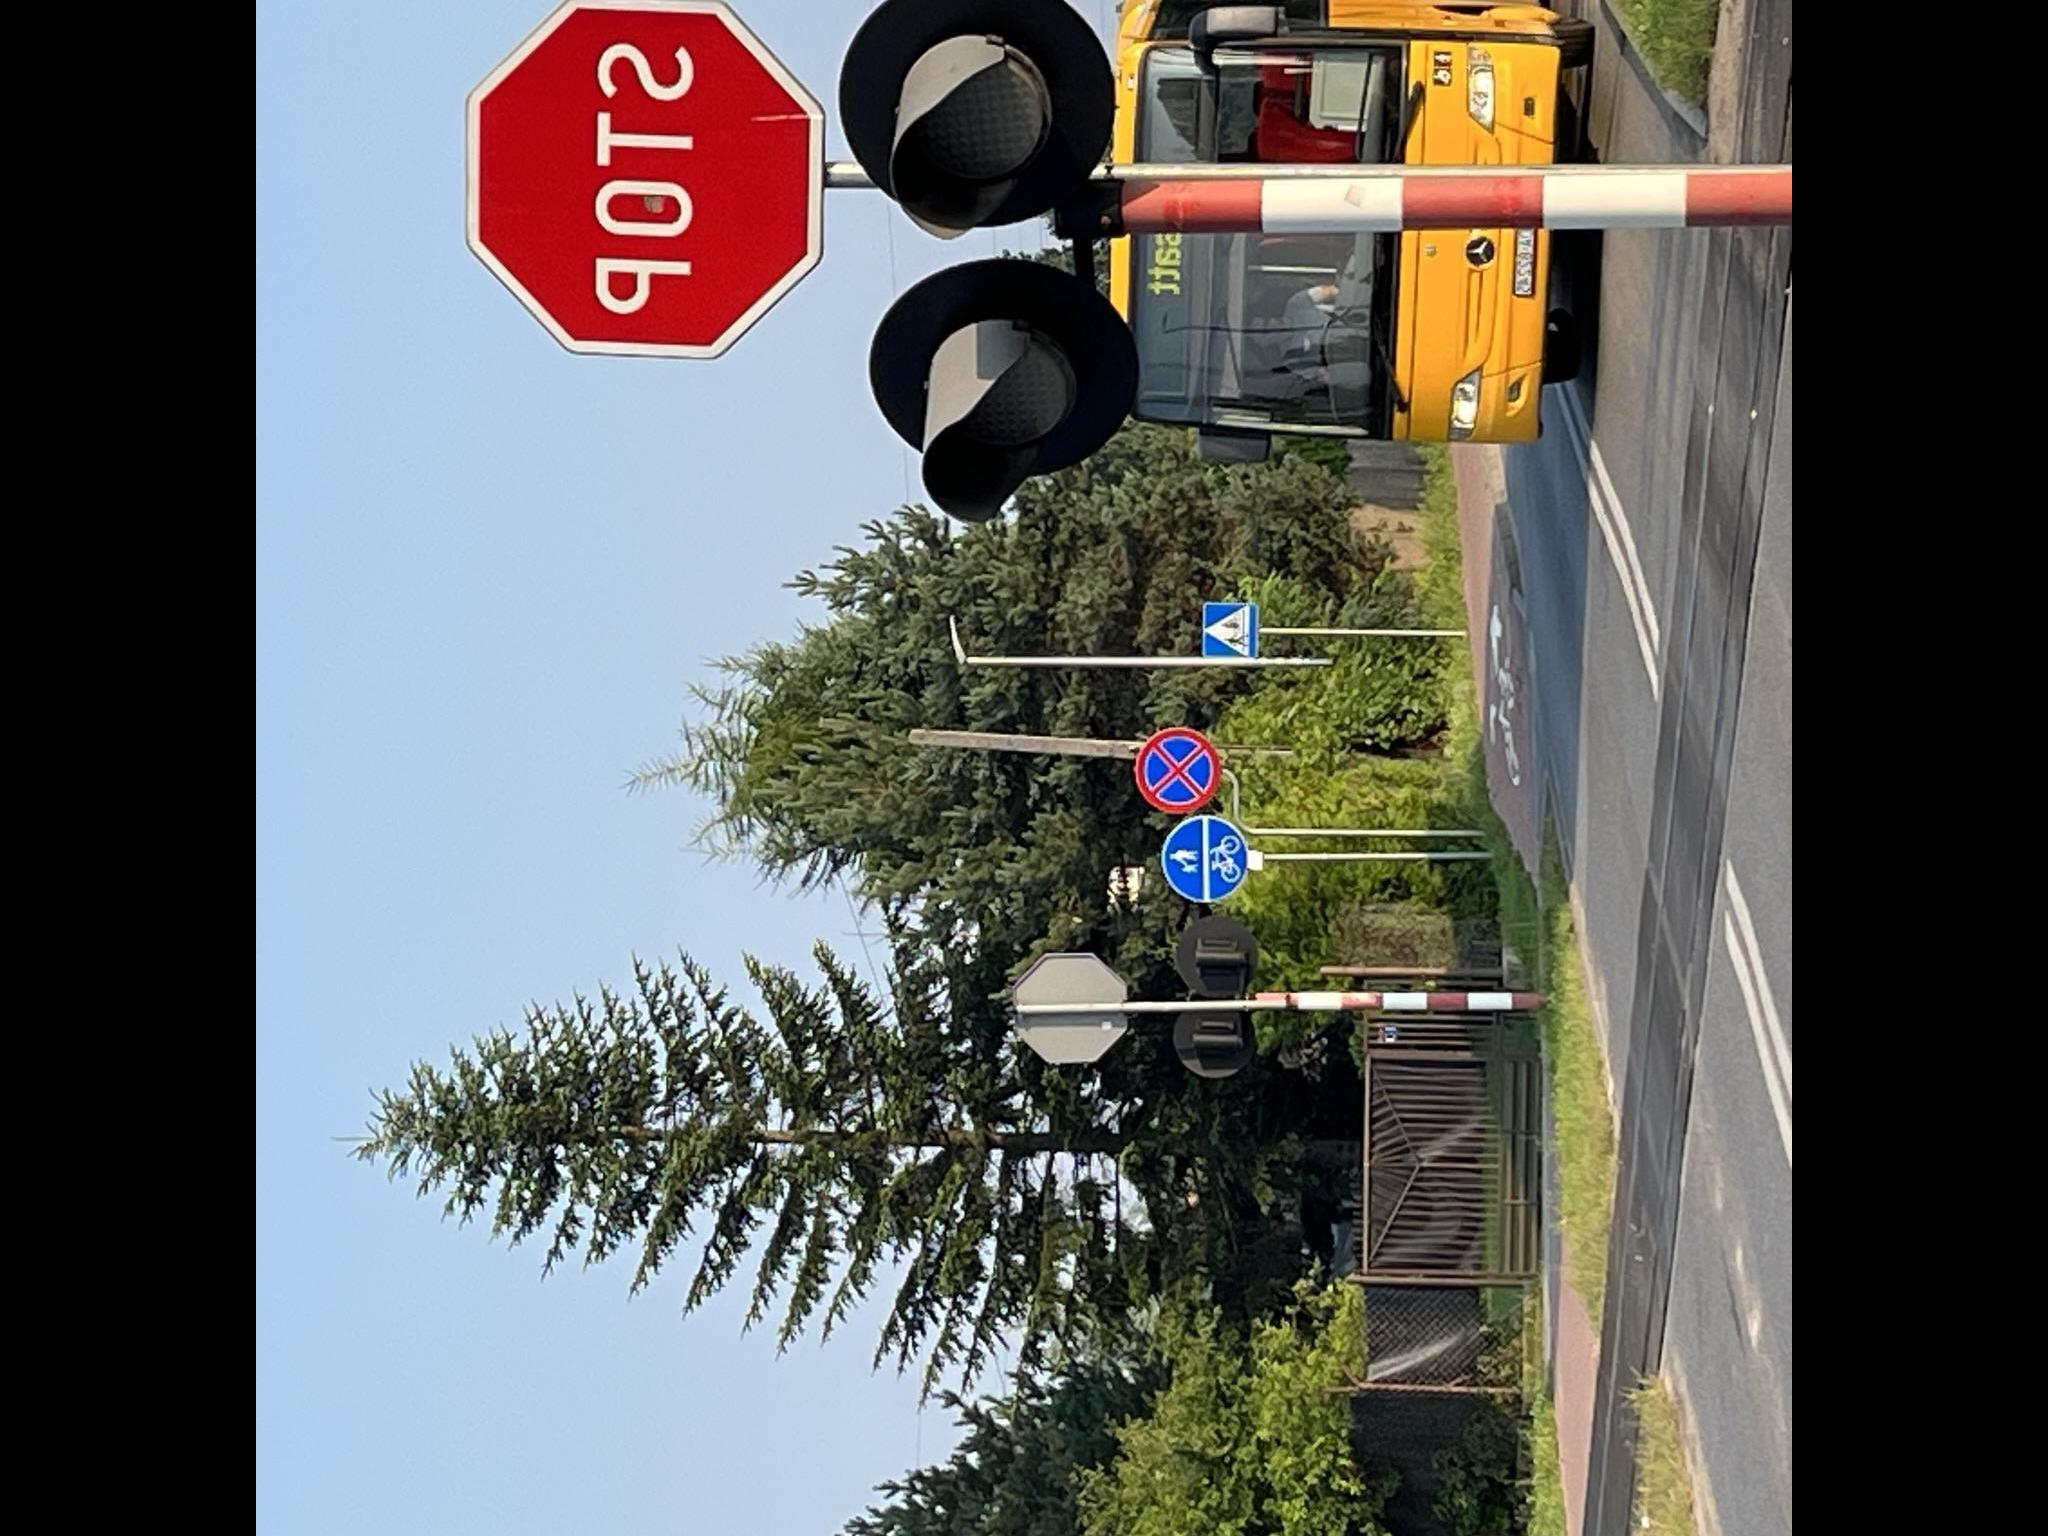information: (1205, 602, 1255, 655)
mandatory: (1163, 813, 1248, 904)
prohibitory: (461, 0, 822, 361), (1134, 726, 1221, 813)
